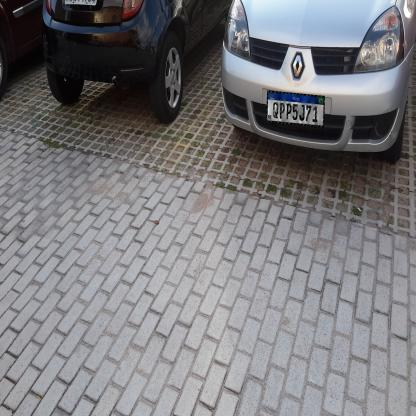PlacaM: (266, 90, 325, 128)
